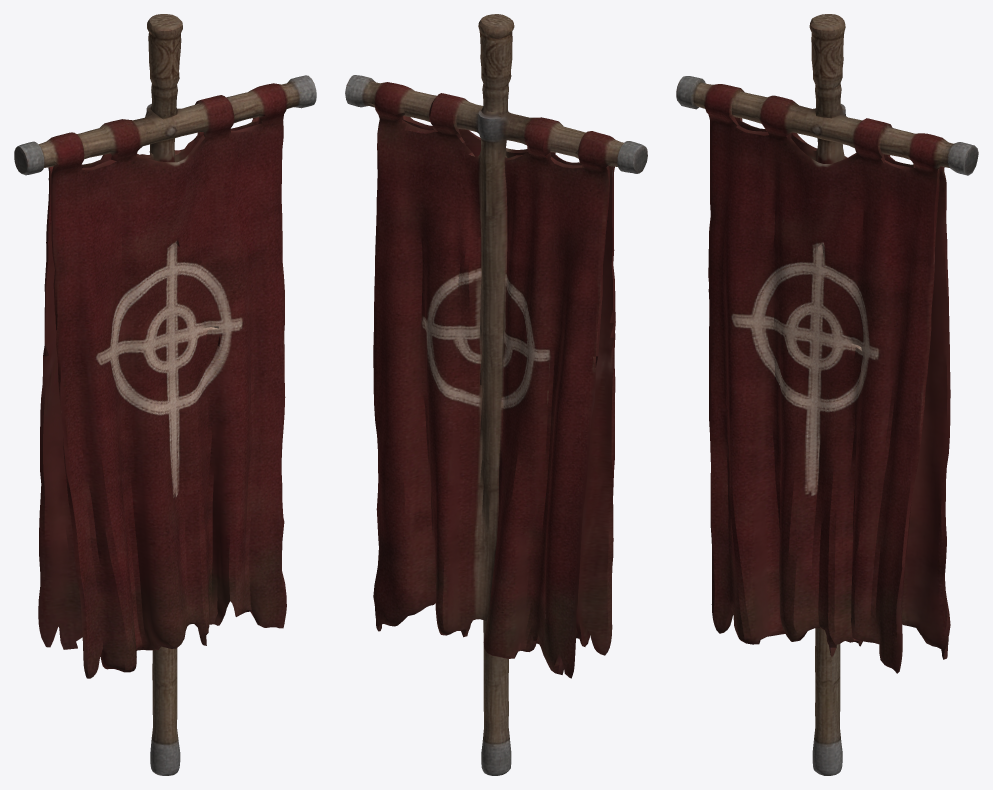
The model's file is meadows_tether_war_banner.glb.
3 views of the same model, side by side, from view 1: azimuth 30°, elevation 25°; view 2: azimuth 150°, elevation 25°; view 3: azimuth 330°, elevation 25° (orthographic).
Visible parts, largest first — view 1: Mesh_0; view 2: Mesh_0; view 3: Mesh_0.
Boxes of the visible parts, box(x1,y1,x2,y2) form: Mesh_0: box(14, 14, 316, 775); Mesh_0: box(345, 14, 647, 775); Mesh_0: box(676, 14, 978, 775).
Bounding box in the file's own units: 0.7698 × 1.9 × 0.2306.
1 material, 1 textured.
